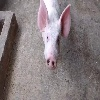heo: (36, 1, 74, 70)
